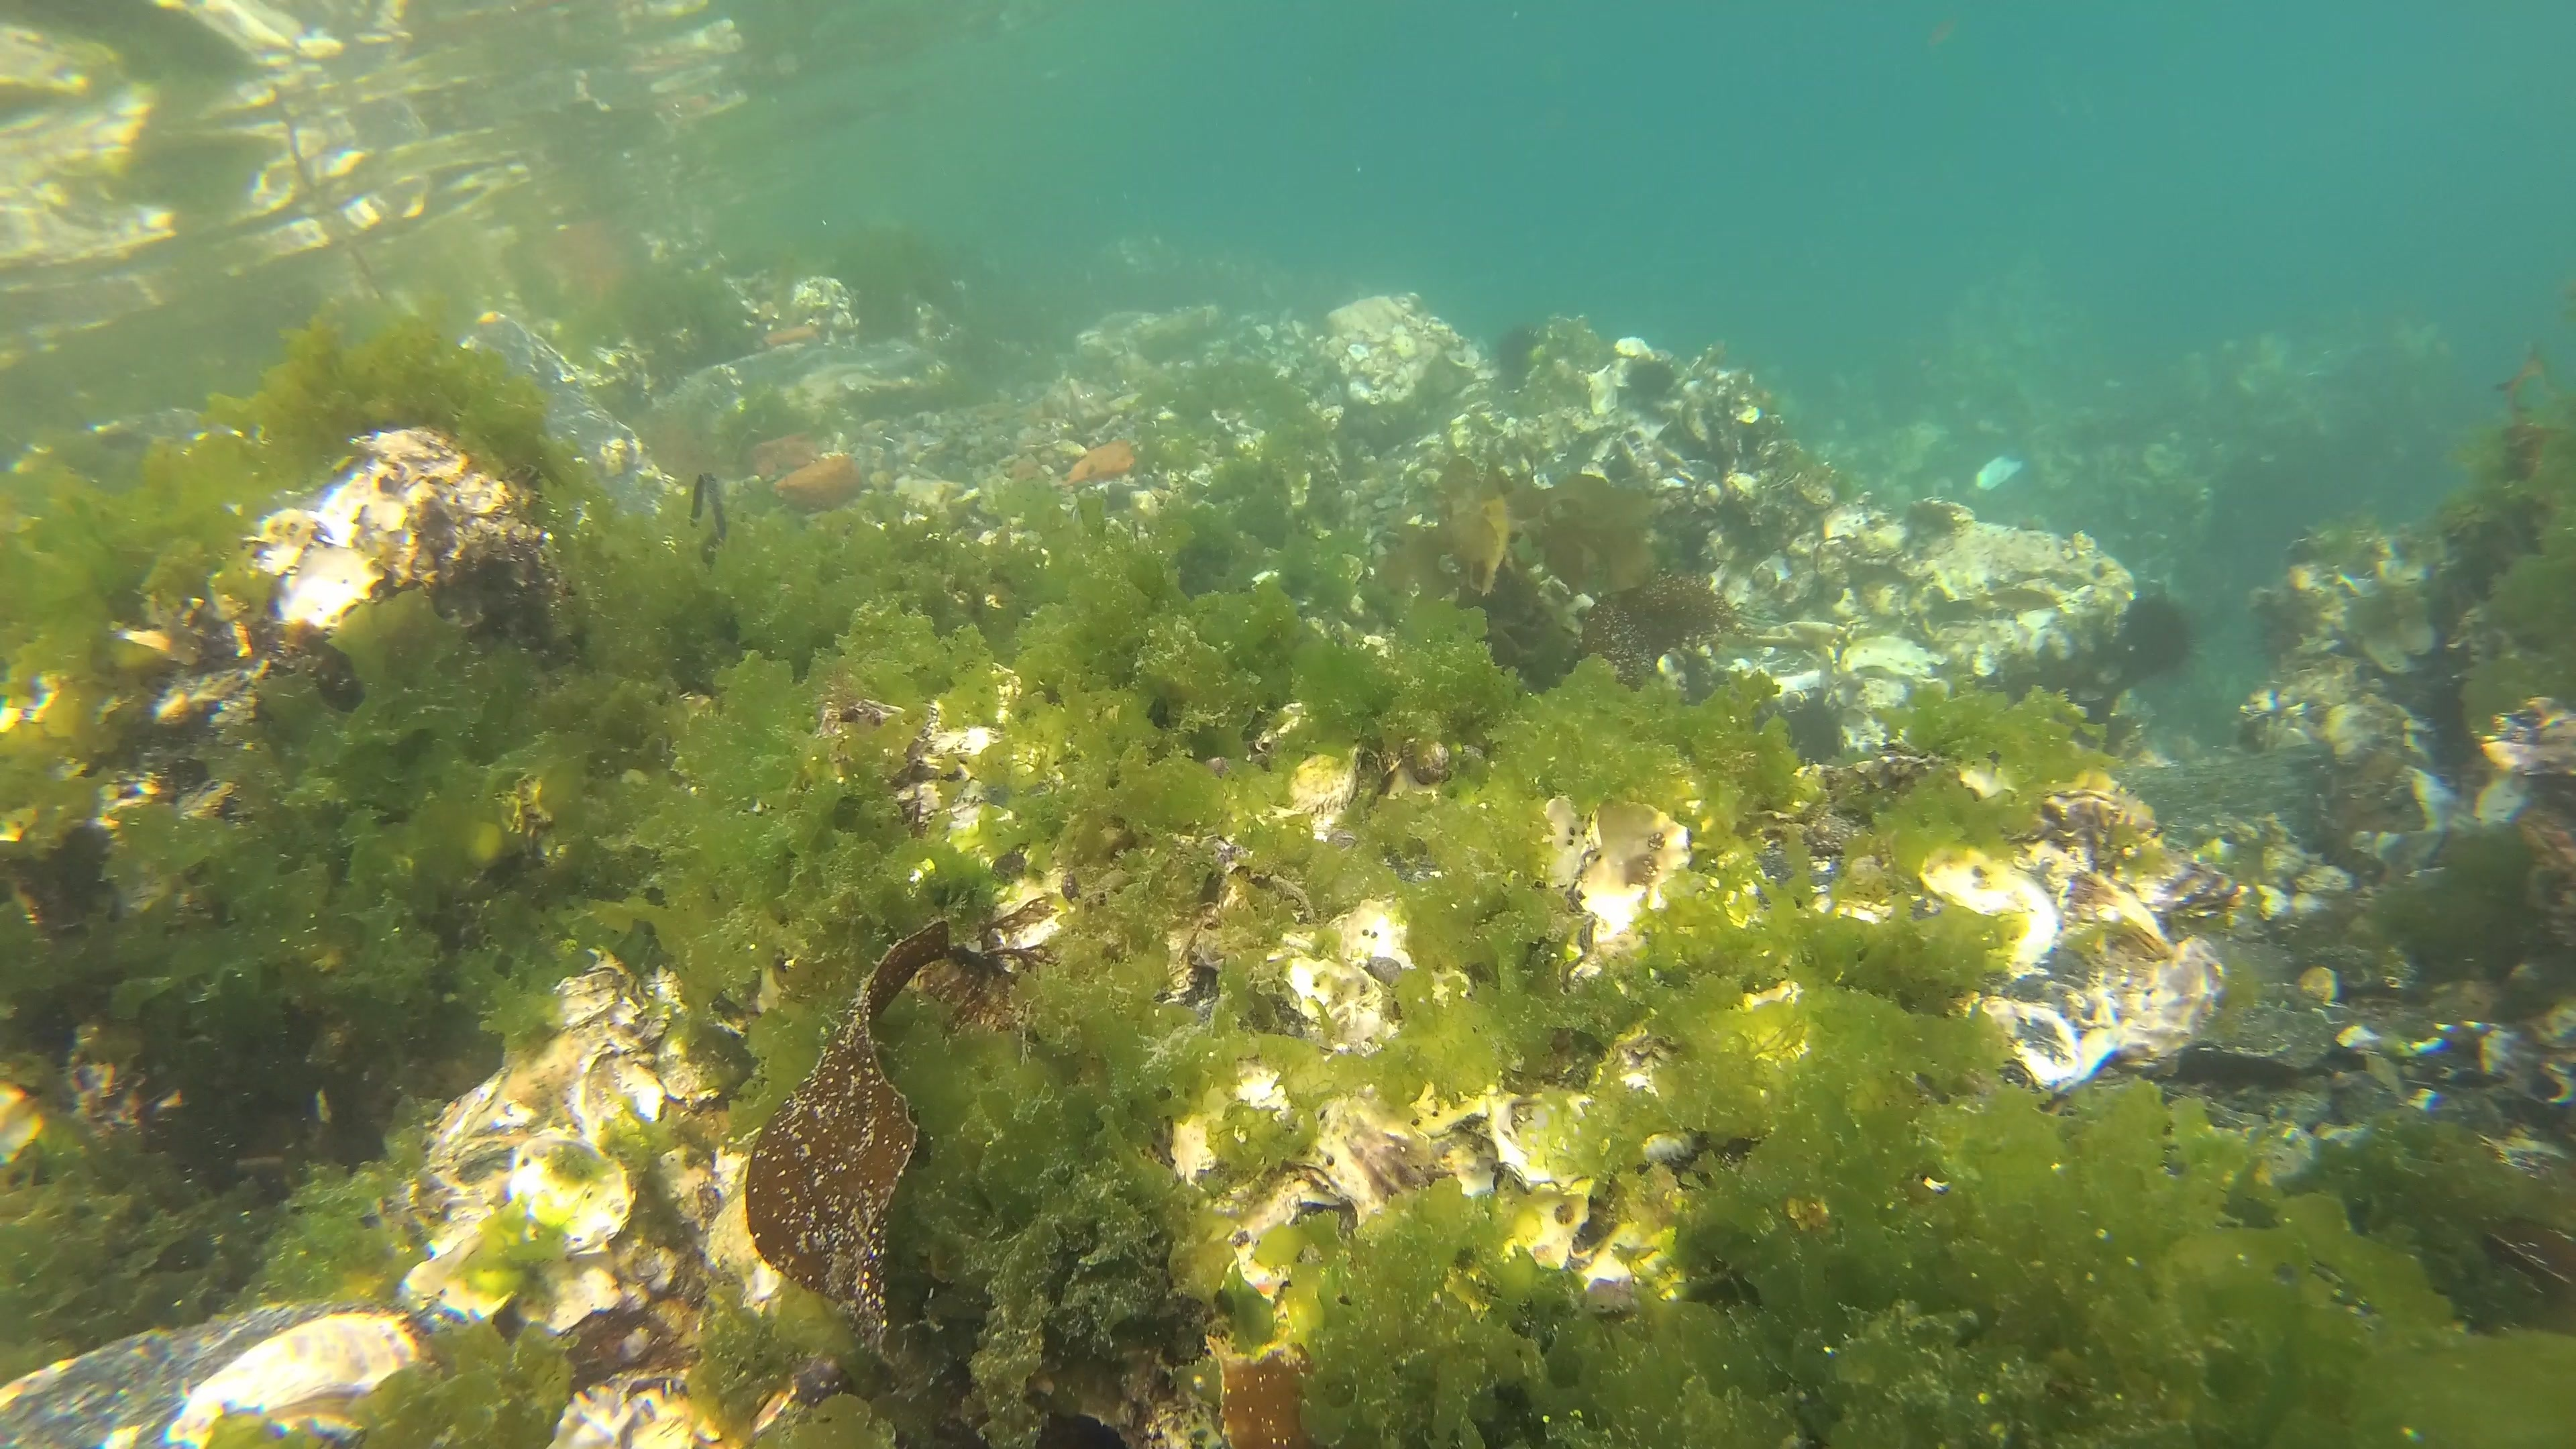echinus: (2116, 591, 2192, 679), (1789, 694, 1851, 773), (1622, 354, 1677, 412), (1491, 334, 1537, 380)
